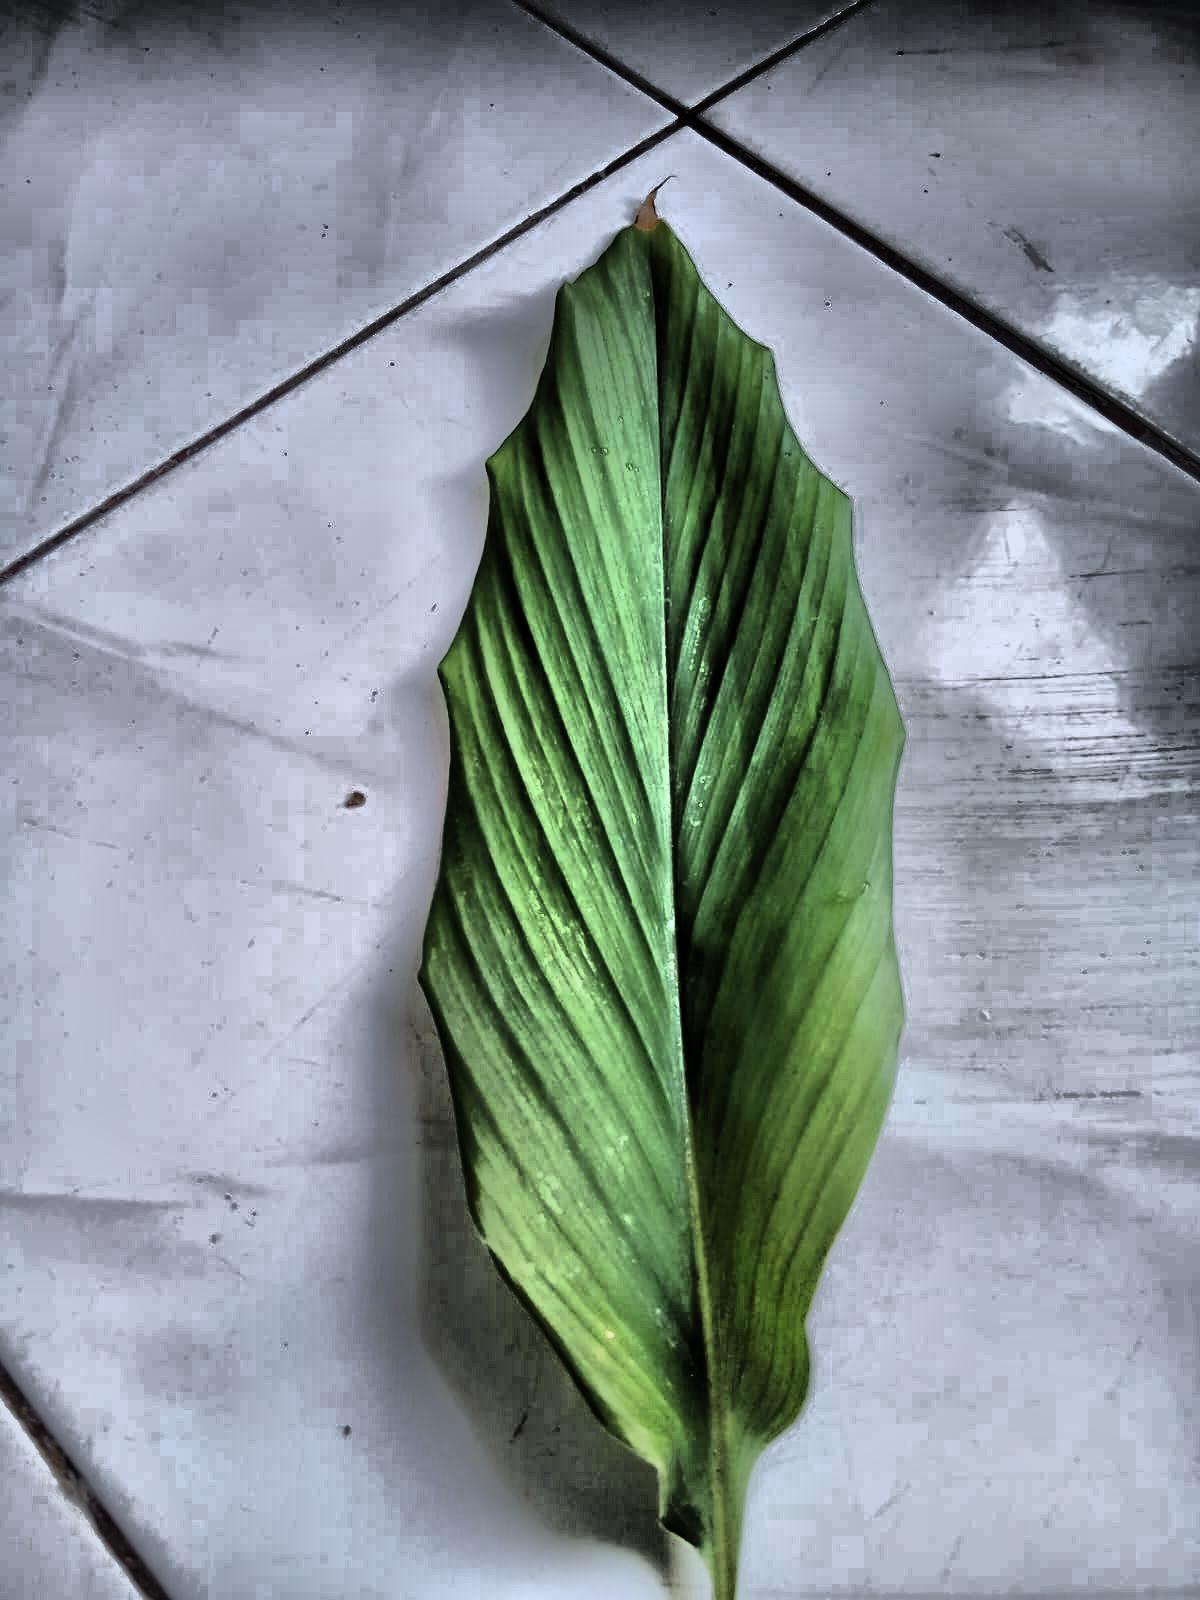daun kunyit: (420, 205, 904, 1599)
